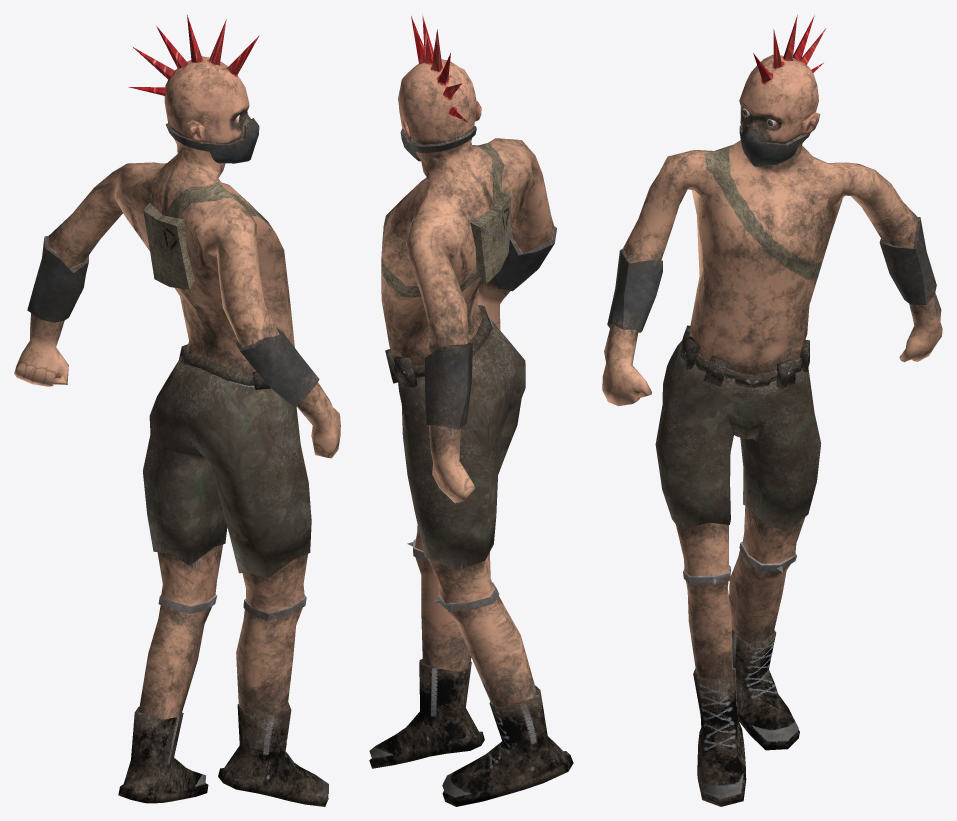
The model's file is Anim_ataque_f1_npc2.0030.obj.
3 renders of one model, left to right at view 1: azimuth 30°, elevation 25°; view 2: azimuth 150°, elevation 25°; view 3: azimuth 270°, elevation 25°, orthographic. The views are drawn at different scales.
Parts seen in each view (by area): view 1: polySurface1; view 2: polySurface1; view 3: polySurface1.
Part boxes in pixels (x1,y1,x2,y2): polySurface1: (14, 15, 340, 806); polySurface1: (369, 14, 573, 806); polySurface1: (602, 15, 942, 806).
Size of the model in its own units: 2.86 by 10.4 by 4.29.
Materials: 2 (2 with a texture image).
